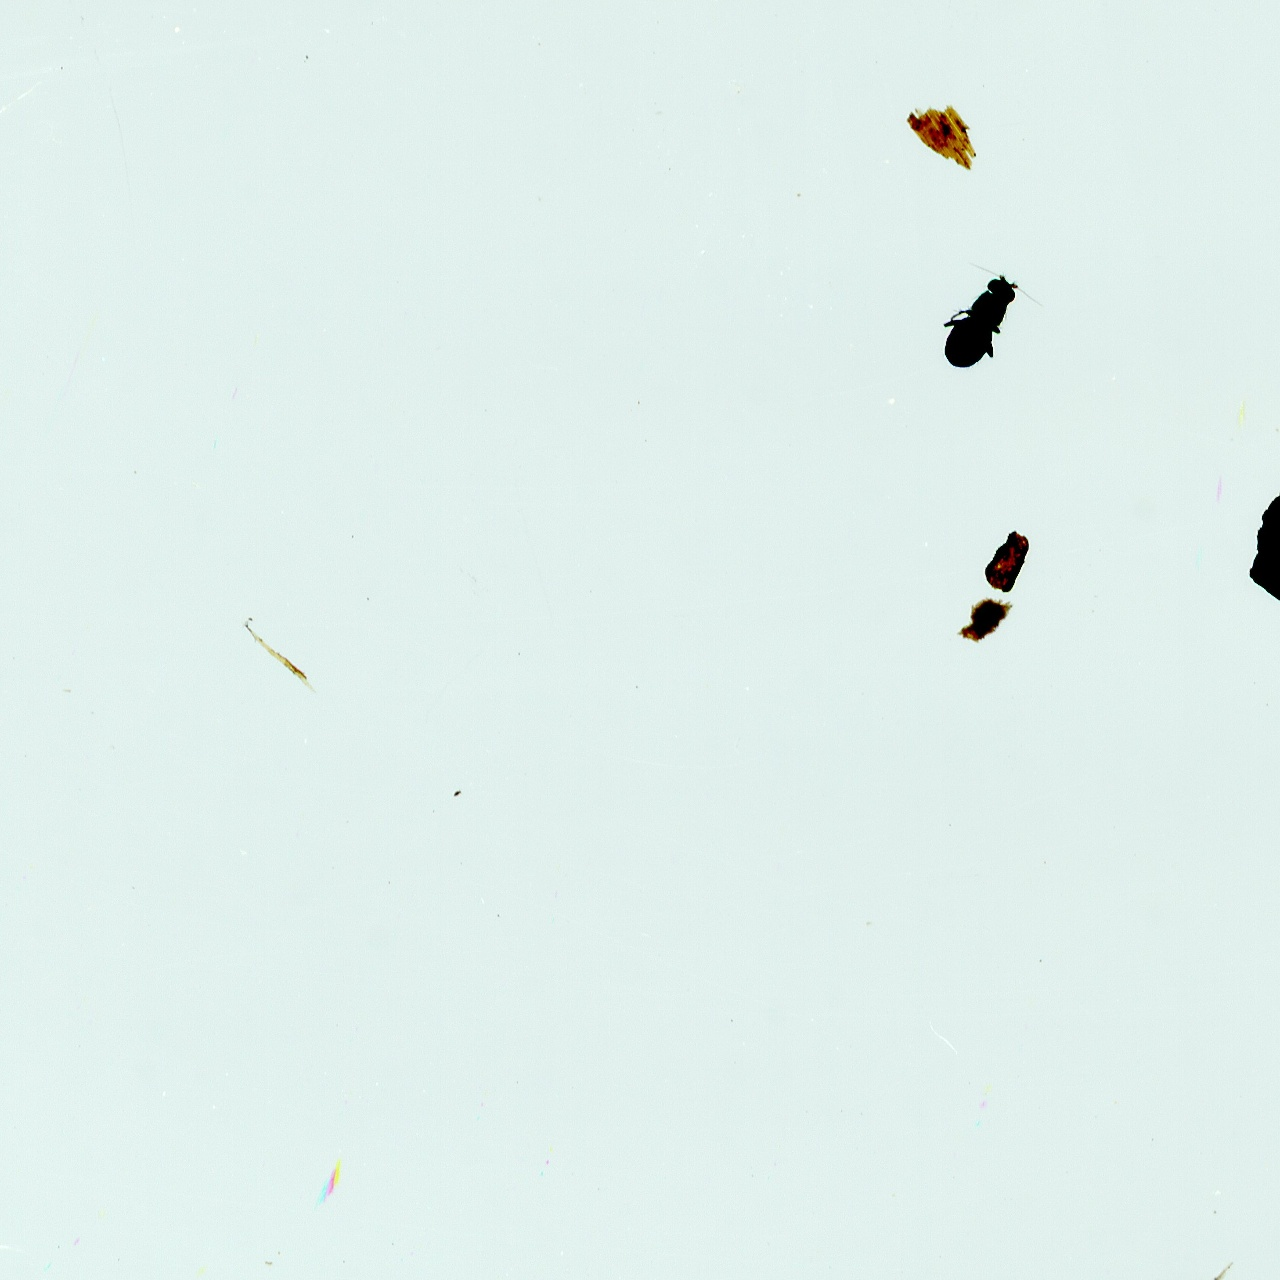arthropod: (908, 246, 1055, 401)
